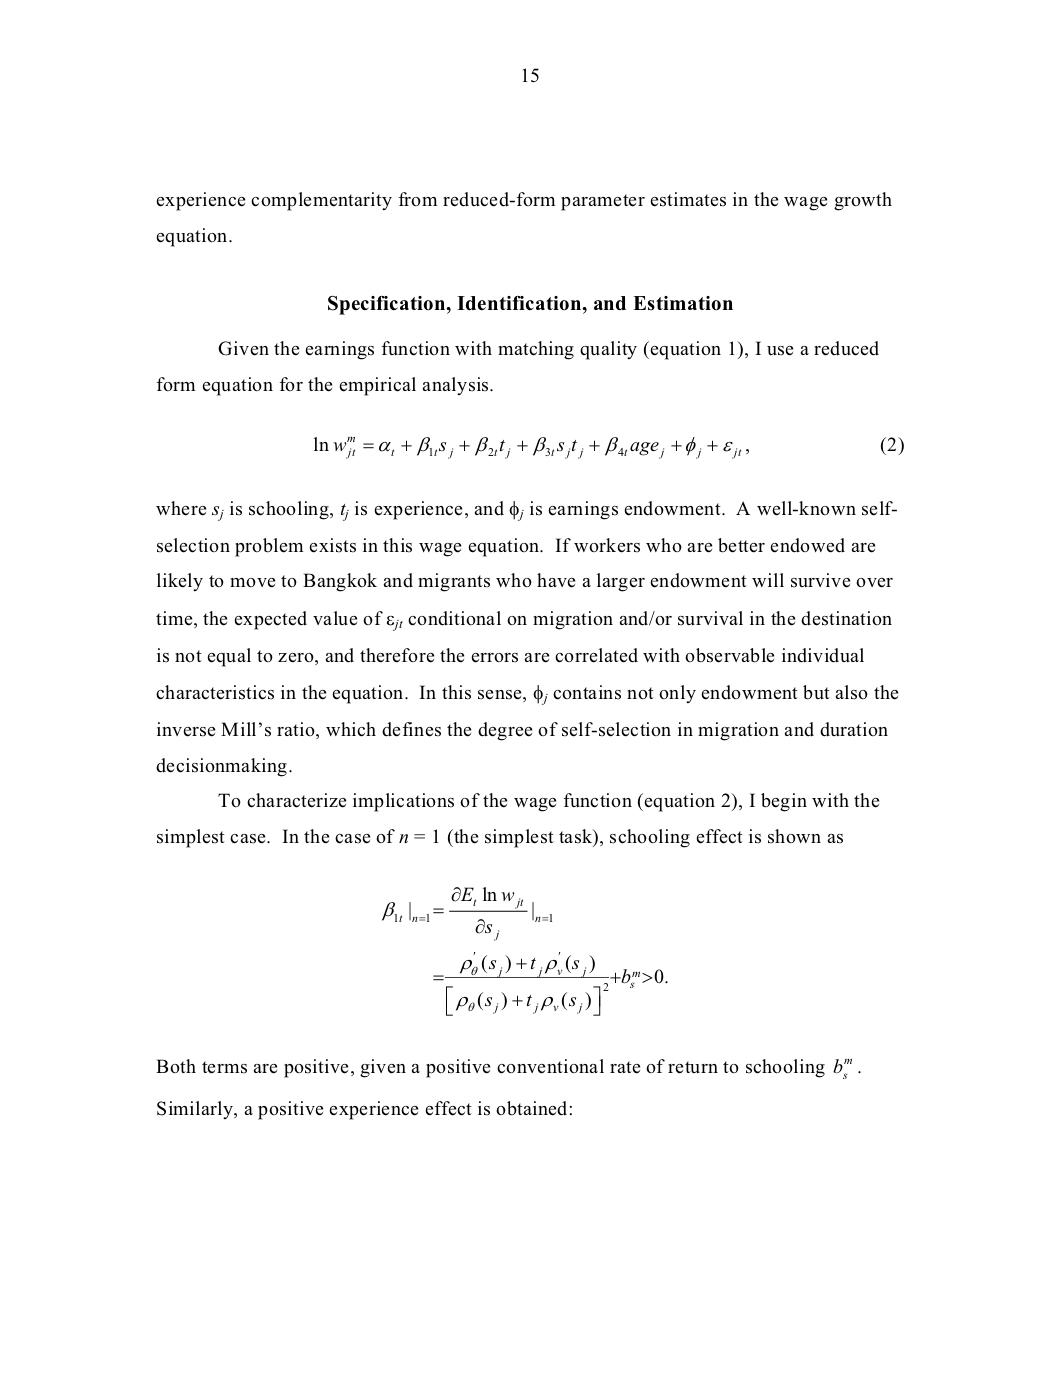formula: (434, 951, 666, 1016), (313, 435, 903, 459), (381, 885, 552, 941)
